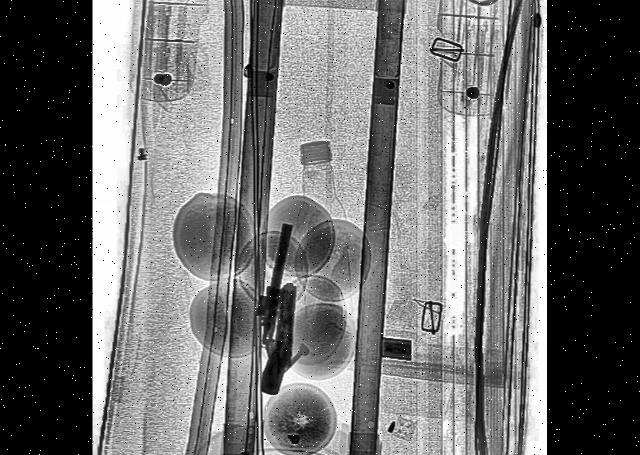Gun: (257, 218, 292, 355), (262, 278, 296, 397)
